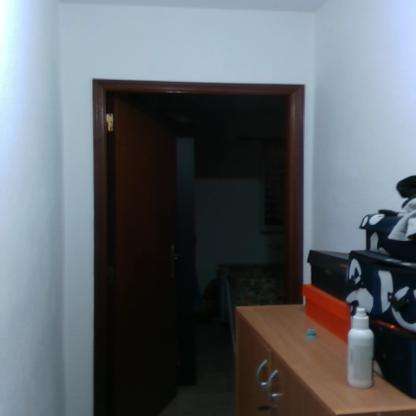open: (72, 61, 322, 416)
